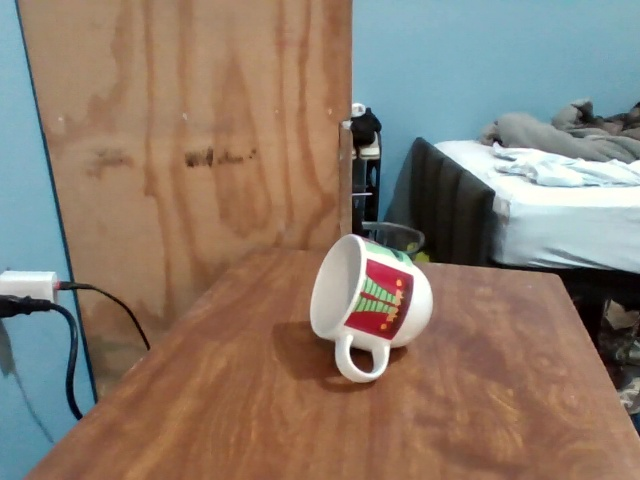taza: (308, 232, 434, 382)
